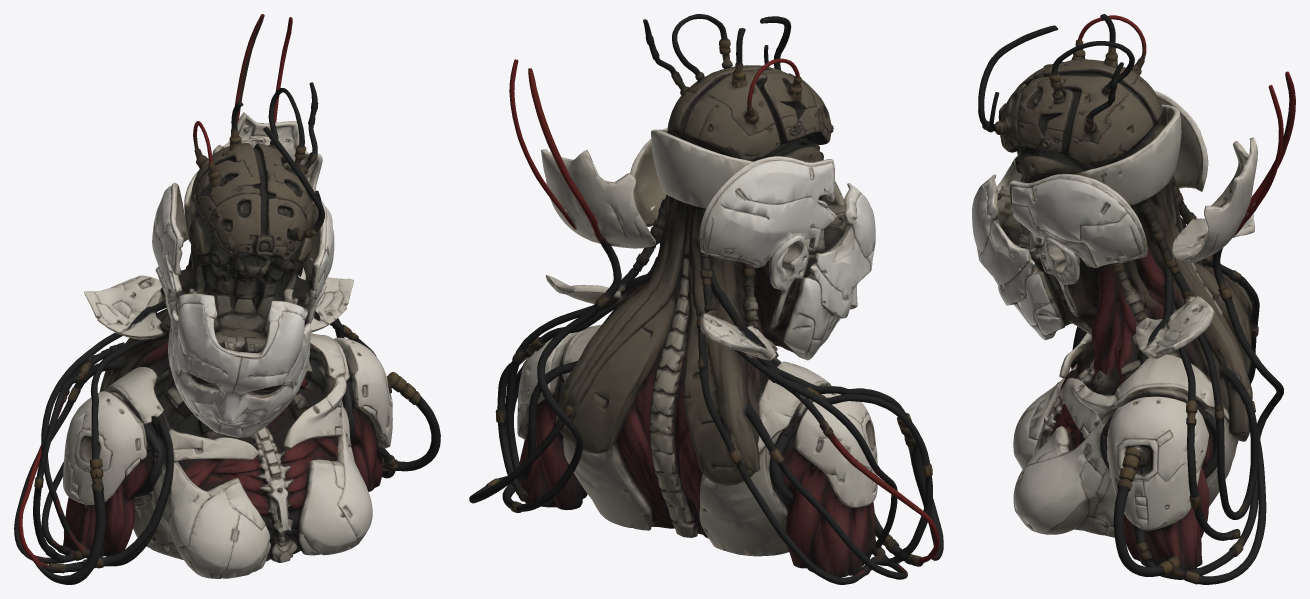
The model's file is cyborg.glb.
3 views of the same model, side by side, from view 1: azimuth 30°, elevation 25°; view 2: azimuth 150°, elevation 25°; view 3: azimuth 270°, elevation 25° (orthographic). The views are drawn at different scales.
Visible parts, largest first — view 1: cyborg; view 2: cyborg; view 3: cyborg.
Part boxes in pixels (x1,y1,x2,y2): cyborg: [14, 14, 440, 584]; cyborg: [469, 14, 943, 584]; cyborg: [972, 14, 1295, 584].
Size of the model in its own units: 0.9699 by 0.9996 by 0.6195.
1 material, 1 textured.
